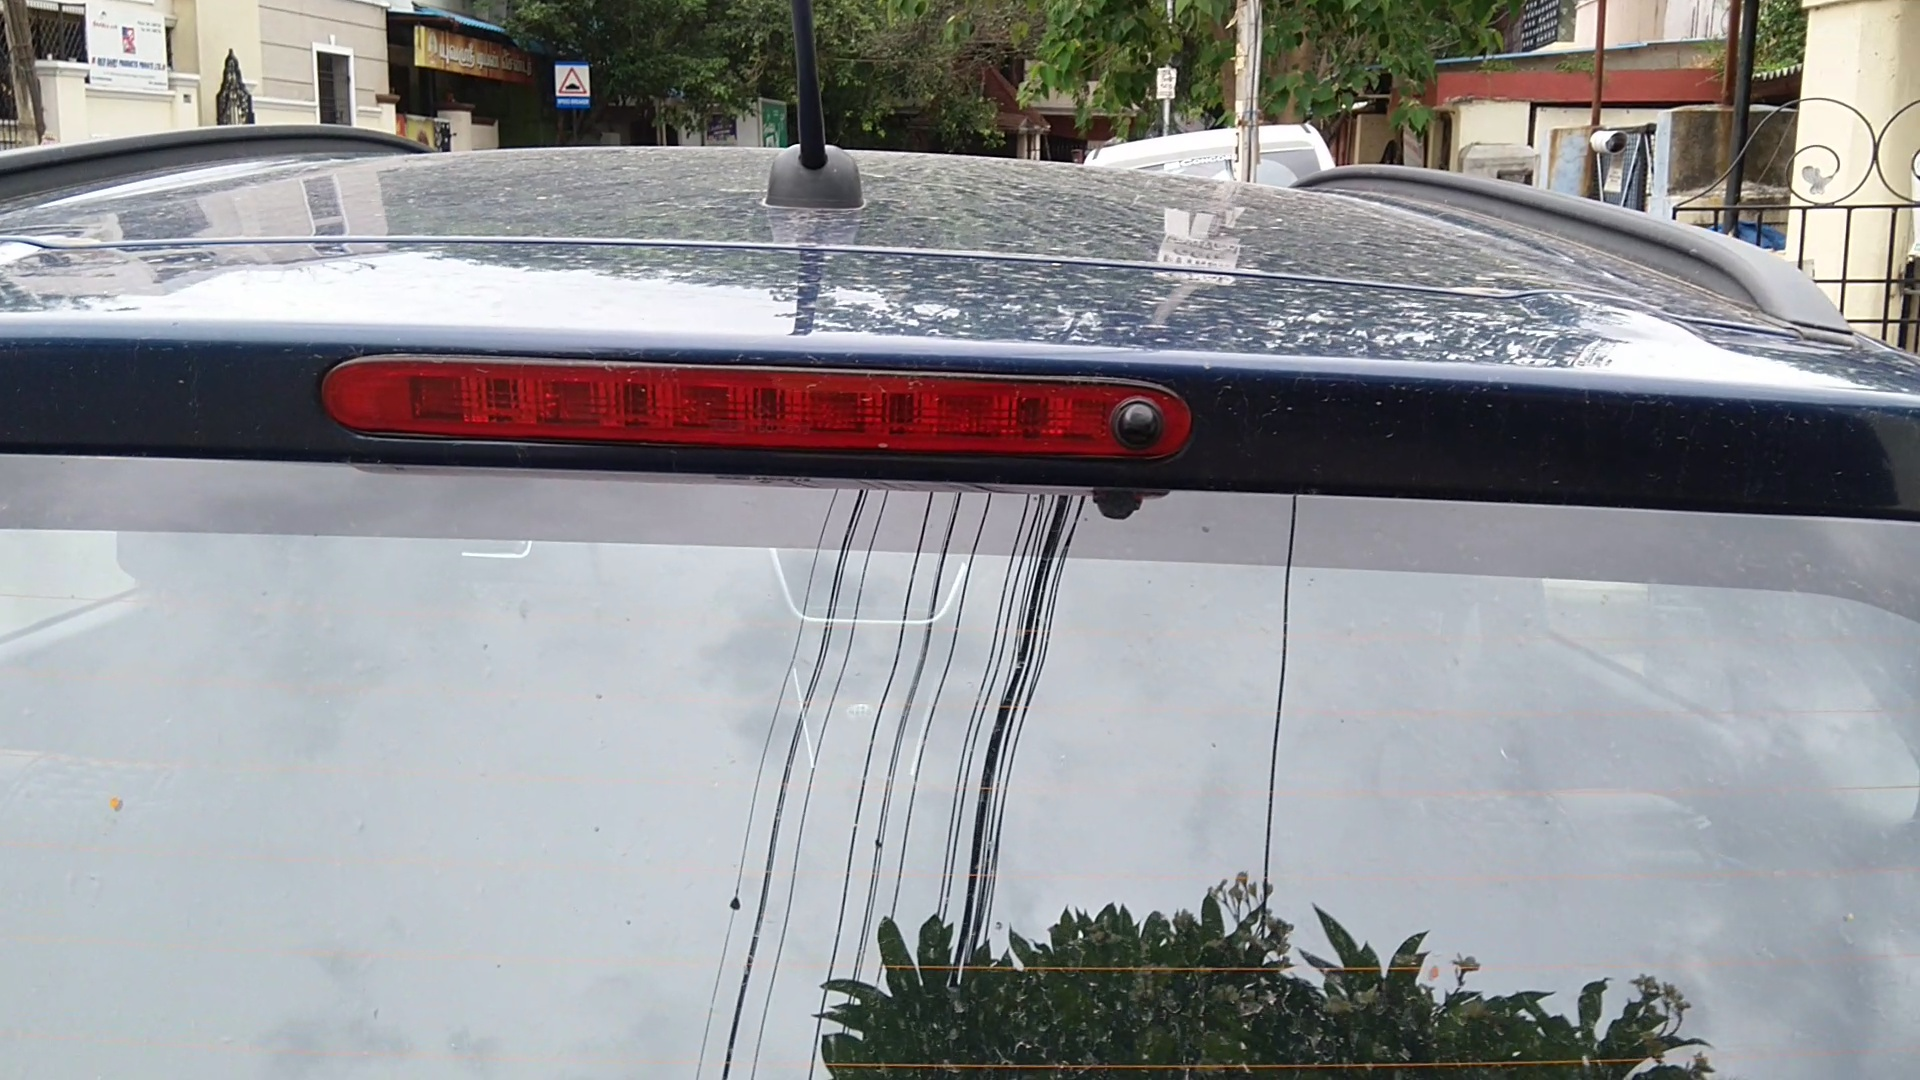rear_camera: (1100, 386, 1176, 458)
